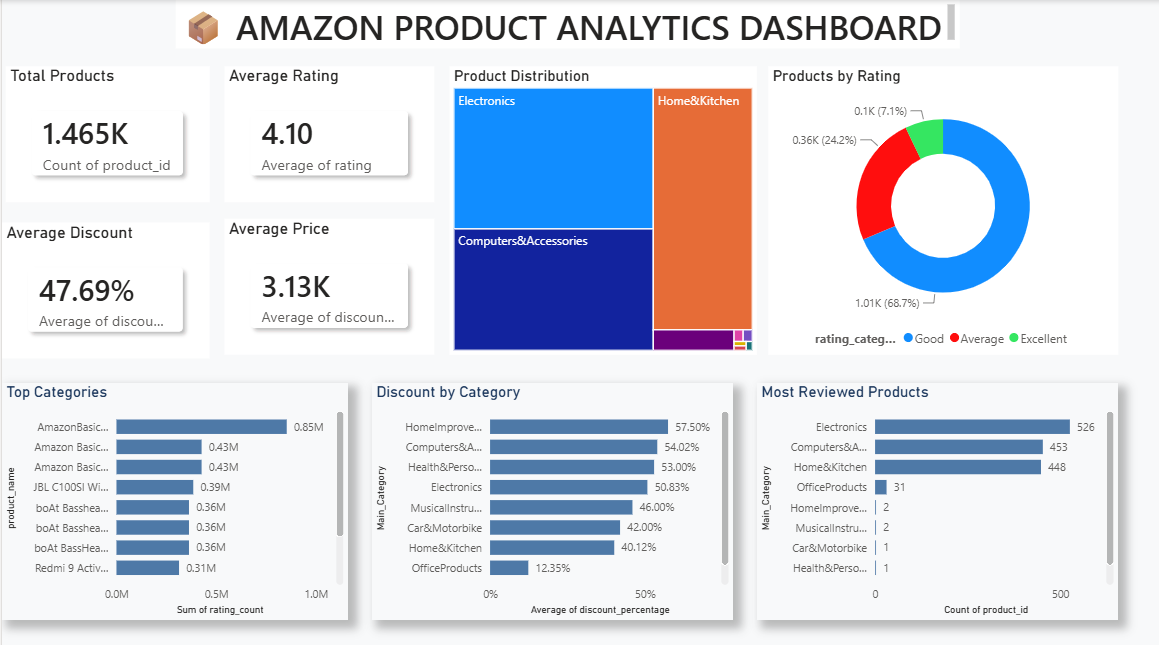

What the dashboard file says about the page in this screenshot:
{"tool":"powerbi","page":{"name":"Executive Dashboard","canvas":[1280,720],"ordinal":0},"visuals":[{"type":"textbox","box":[192.2,0,866.9,53.9],"z":0},{"type":"clusteredBarChart","title":"Most Reviewed Products","fields":{"Category":["amazon_clean.Main_Category"],"Y":["CountNonNull(amazon_clean.product_id)"]},"box":[835.1,423.1,399.6,262.7],"z":1000},{"type":"clusteredBarChart","title":"Top Categories","fields":{"Category":["amazon_clean.product_name"],"Y":["Sum(amazon_clean.rating_count)"]},"box":[0,423.1,383,262.7],"z":2000},{"type":"clusteredBarChart","title":"Discount by Category","fields":{"Category":["amazon_clean.Main_Category"],"Y":["Avg(amazon_clean.discount_percentage)"]},"box":[409.2,423.1,399.6,262.7],"z":3000},{"type":"cardVisual","title":"Total Products","fields":{"Data":["CountNonNull(amazon_clean.product_id)"]},"box":[4.1,73.3,225.4,150.7],"z":4000},{"type":"cardVisual","title":"Average Rating","fields":{"Data":["Avg(amazon_clean.rating)"]},"box":[246.1,73.3,232.3,150.7],"z":5000},{"type":"cardVisual","title":"Average Discount","fields":{"Data":["Avg(amazon_clean.discount_percentage)"]},"box":[0,246.1,229.5,150.7],"z":6000},{"type":"cardVisual","title":"Average Price","fields":{"Data":["Avg(amazon_clean.discounted_price)"]},"box":[246.1,242,232.3,150.7],"z":7000},{"type":"donutChart","title":"Products by Rating","fields":{"Category":["amazon_clean.rating_category"],"Y":["CountNonNull(amazon_clean.product_id)"]},"box":[847.5,73.3,387.1,319.4],"z":8000},{"type":"treemap","title":"Product Distribution","fields":{"Group":["amazon_clean.Main_Category"],"Values":["CountNonNull(amazon_clean.product_id)"]},"box":[495,73.3,340.1,319.4],"z":9000}]}

Visuals, with their boxes in screenshot pixels (x1, y1, x2, y2), scaled from the page's 1280x720 canvas onto the 1159x645 screenshot:
textbox: Rect(174, 0, 959, 48)
"Most Reviewed Products" clusteredBarChart: Rect(756, 379, 1118, 614)
"Top Categories" clusteredBarChart: Rect(0, 379, 347, 614)
"Discount by Category" clusteredBarChart: Rect(371, 379, 732, 614)
"Total Products" cardVisual: Rect(4, 66, 208, 201)
"Average Rating" cardVisual: Rect(223, 66, 433, 201)
"Average Discount" cardVisual: Rect(0, 220, 208, 355)
"Average Price" cardVisual: Rect(223, 217, 433, 352)
"Products by Rating" donutChart: Rect(767, 66, 1118, 352)
"Product Distribution" treemap: Rect(448, 66, 756, 352)
